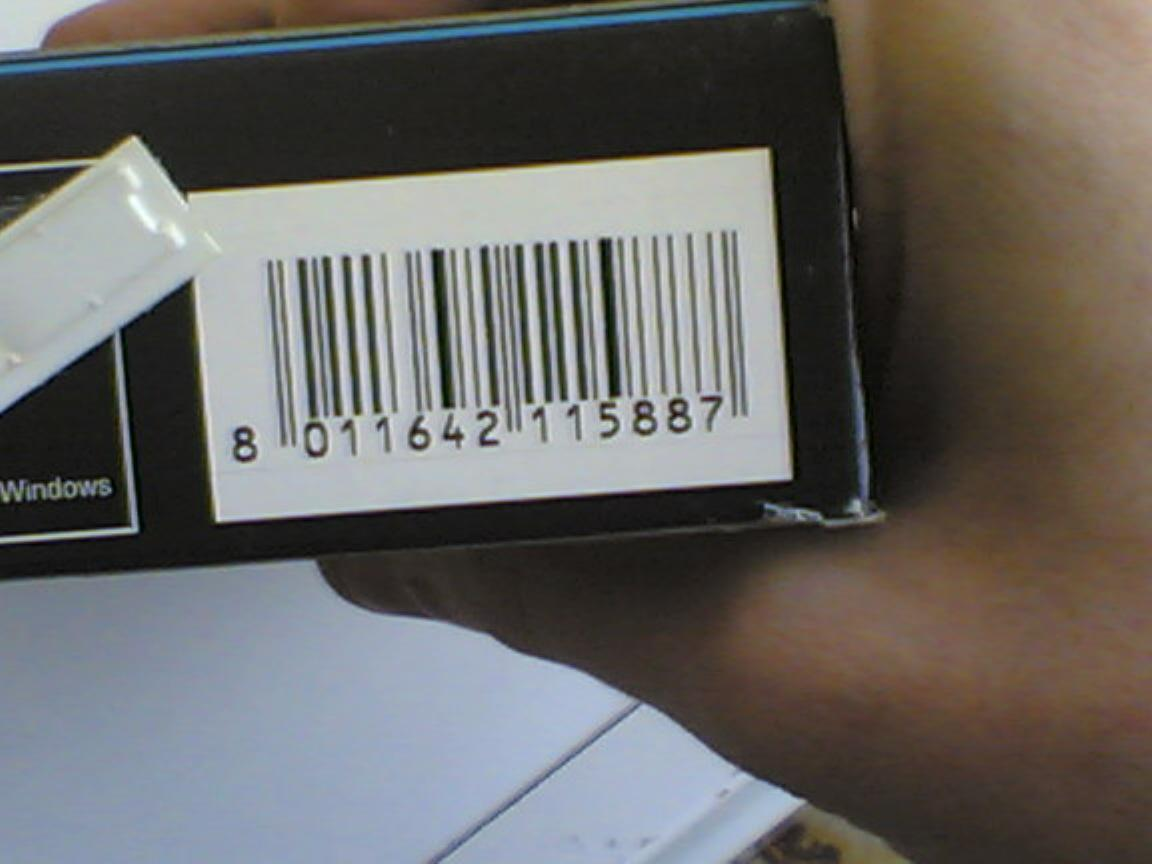Barcode: (186, 150, 795, 524)
